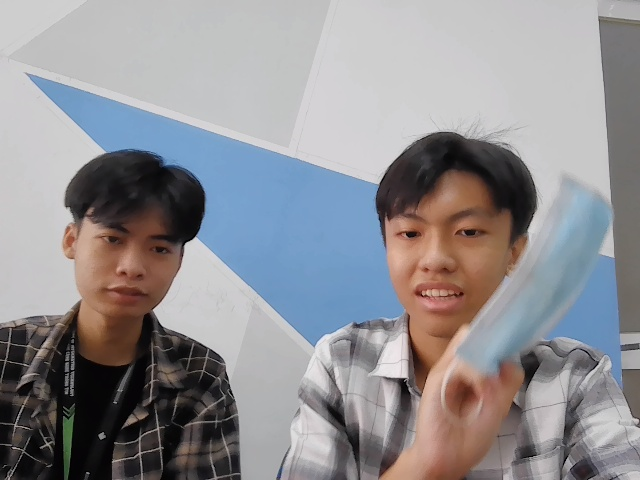human: (367, 129, 530, 317), (59, 144, 211, 321)
mask: (461, 181, 617, 372)
